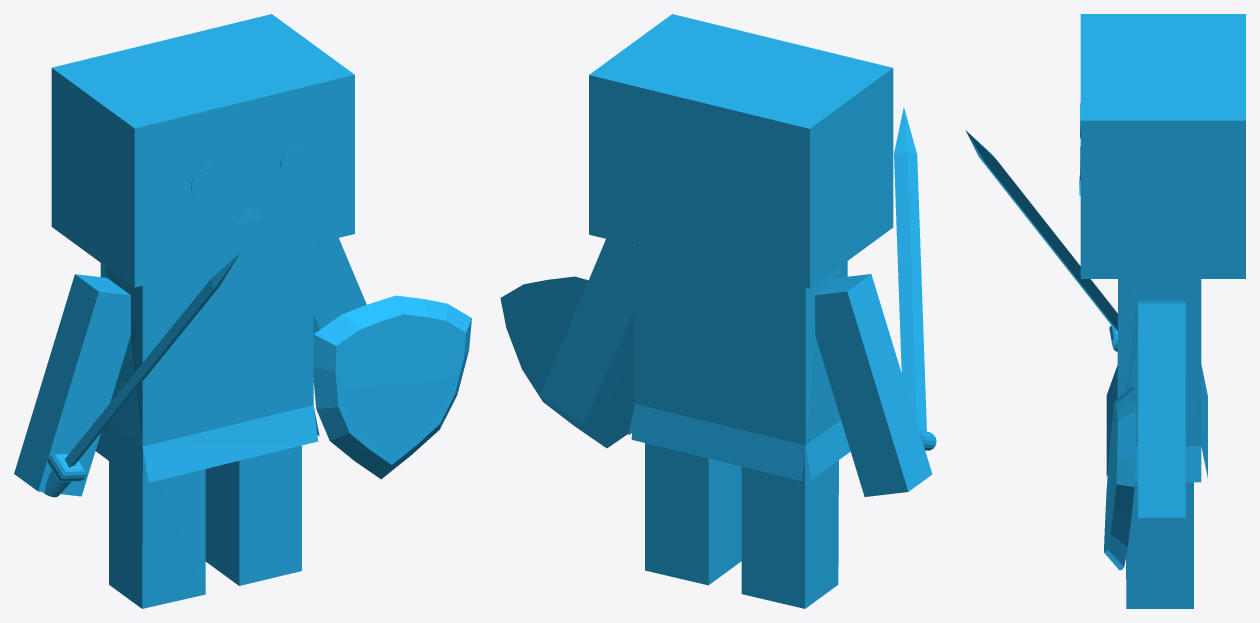
Rendered from knight.obj.
3 views of the same model, side by side, from view 1: azimuth 30°, elevation 25°; view 2: azimuth 150°, elevation 25°; view 3: azimuth 270°, elevation 25° (orthographic).
Visible parts, largest first — view 1: Cube.005_Cube.001; view 2: Cube.005_Cube.001; view 3: Cube.005_Cube.001.
Boxes of the visible parts, left/top/right/bottom form: Cube.005_Cube.001: left=14, top=14, right=471, bottom=608; Cube.005_Cube.001: left=500, top=14, right=936, bottom=608; Cube.005_Cube.001: left=965, top=14, right=1245, bottom=608.
Bounding box in the file's own units: 5.69 × 6.36 × 3.22.
1 material, 1 textured.
